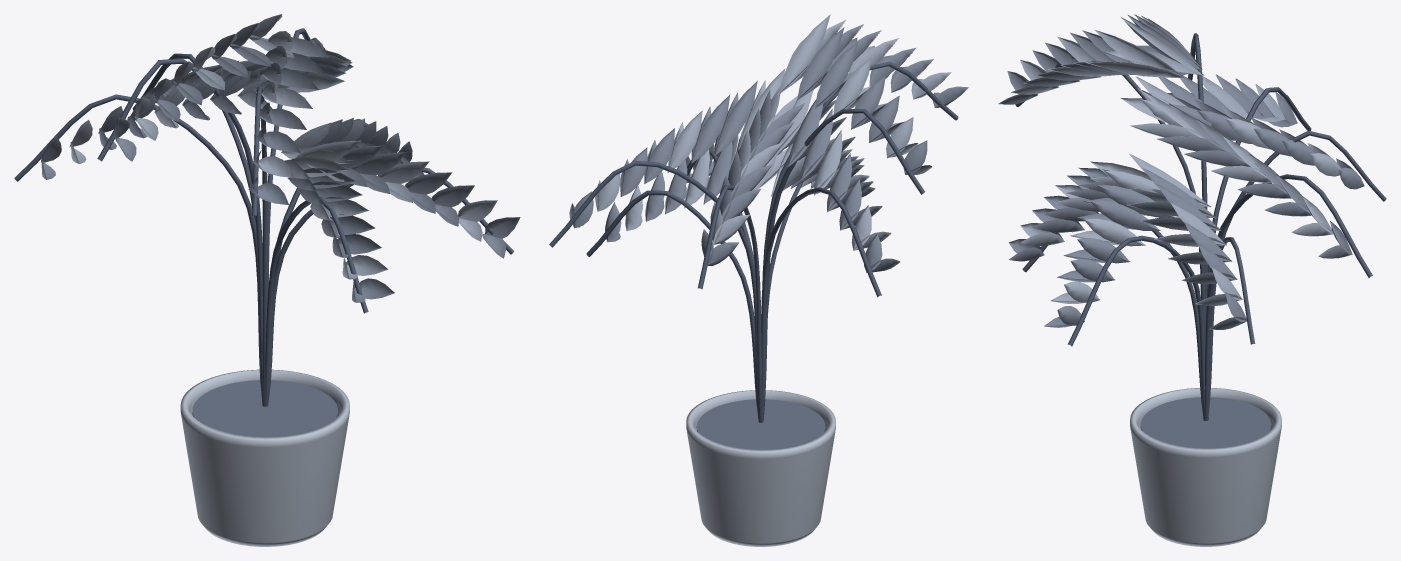
Rendered from plant-palm.glb.
The picture shows the model from 3 angles, left to right: view 1: azimuth 30°, elevation 25°; view 2: azimuth 150°, elevation 25°; view 3: azimuth 270°, elevation 25°; orthographic projection. The views are drawn at different scales.
Visible parts, largest first — view 1: soft, body, light, dark, glass; view 2: soft, body, light, dark, glass; view 3: soft, light, body, dark, glass.
Boxes of the visible parts, x1,y1,x2,y2 form: soft: [41, 23, 520, 302]; body: [180, 369, 349, 546]; light: [69, 14, 497, 279]; dark: [14, 28, 513, 406]; glass: [192, 380, 337, 436]; soft: [569, 24, 968, 272]; body: [686, 390, 835, 546]; light: [595, 14, 951, 250]; dark: [549, 61, 958, 422]; glass: [696, 399, 825, 449]; soft: [998, 14, 1364, 329]; light: [1011, 15, 1341, 306]; body: [1130, 388, 1281, 546]; dark: [1015, 33, 1386, 420]; glass: [1140, 397, 1271, 447].
Bounding box in the file's own units: 1.08 × 1.55 × 1.11.
